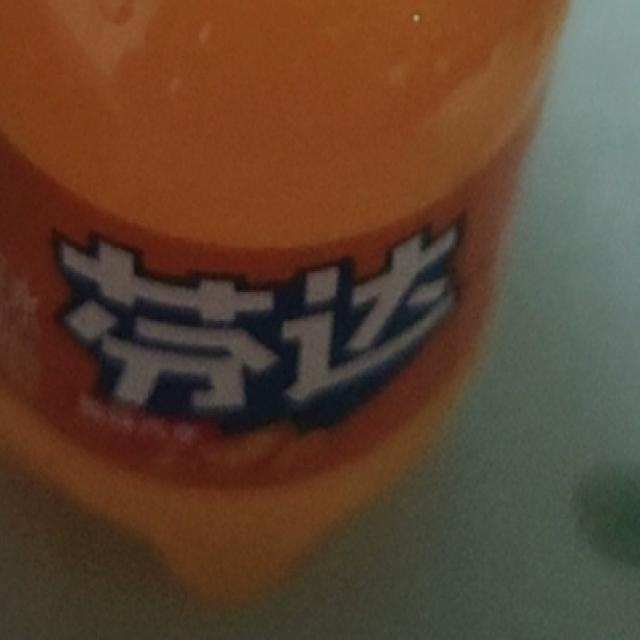orange: (44, 200, 458, 461)
